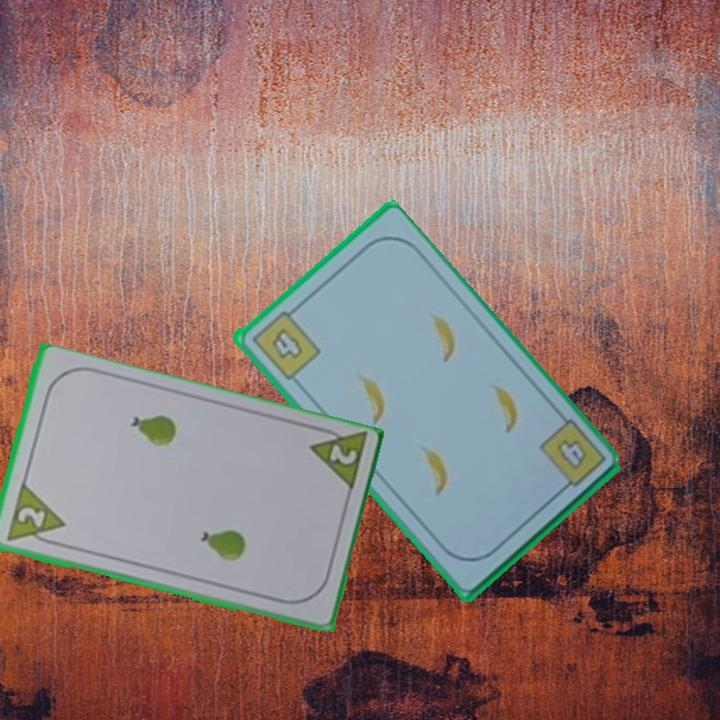2p: (304, 421, 370, 497), (2, 482, 67, 550)
4b: (535, 415, 609, 498), (247, 303, 323, 383)
